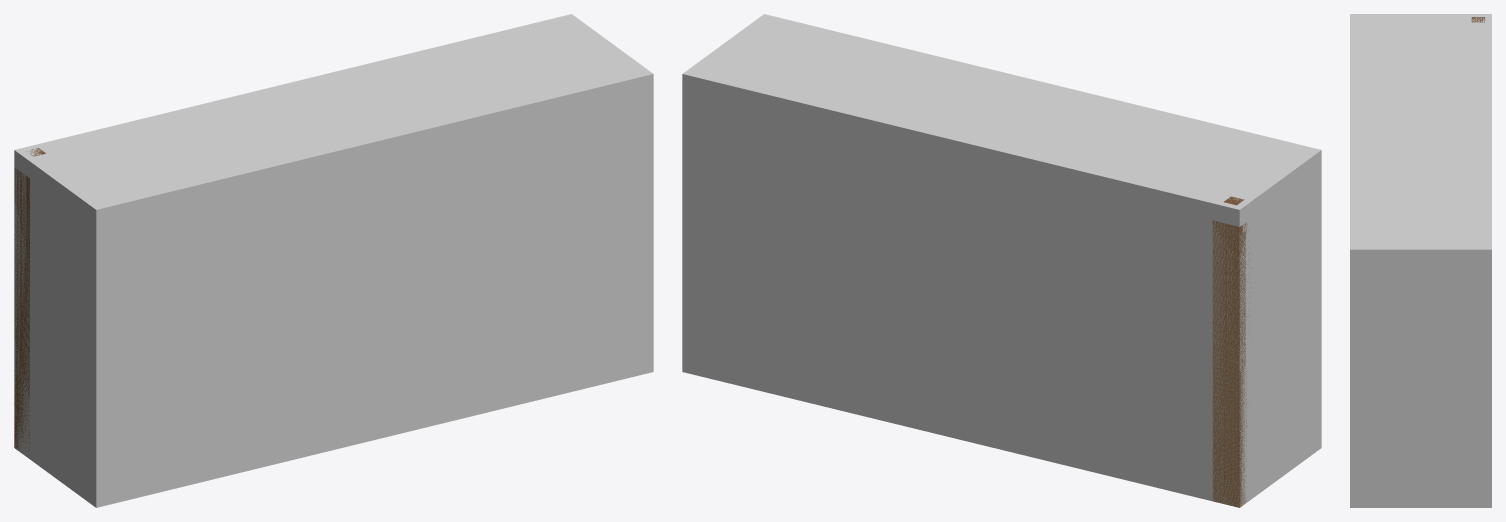
Rendered from FMS_Fence_Broken.fbx.
3 renders of one model, left to right at view 1: azimuth 30°, elevation 25°; view 2: azimuth 150°, elevation 25°; view 3: azimuth 270°, elevation 25°, orthographic. The views are drawn at different scales.
Parts seen in each view (by area): view 1: FMS_Fence_Broken_Col, FMS_Fence_Broken_LOD0; view 2: FMS_Fence_Broken_Col, FMS_Fence_Broken_LOD0; view 3: FMS_Fence_Broken_Col.
Boxes of the visible parts, left/top/right/bottom form: FMS_Fence_Broken_Col: left=14, top=14, right=653, bottom=507; FMS_Fence_Broken_LOD0: left=14, top=148, right=45, bottom=455; FMS_Fence_Broken_Col: left=682, top=14, right=1321, bottom=507; FMS_Fence_Broken_LOD0: left=1212, top=196, right=1252, bottom=507; FMS_Fence_Broken_Col: left=1350, top=14, right=1491, bottom=507.
Size of what is drawn, in the model's own units: 2.05 by 1.05 by 0.5231.
Materials: 1 (1 with a texture image).
